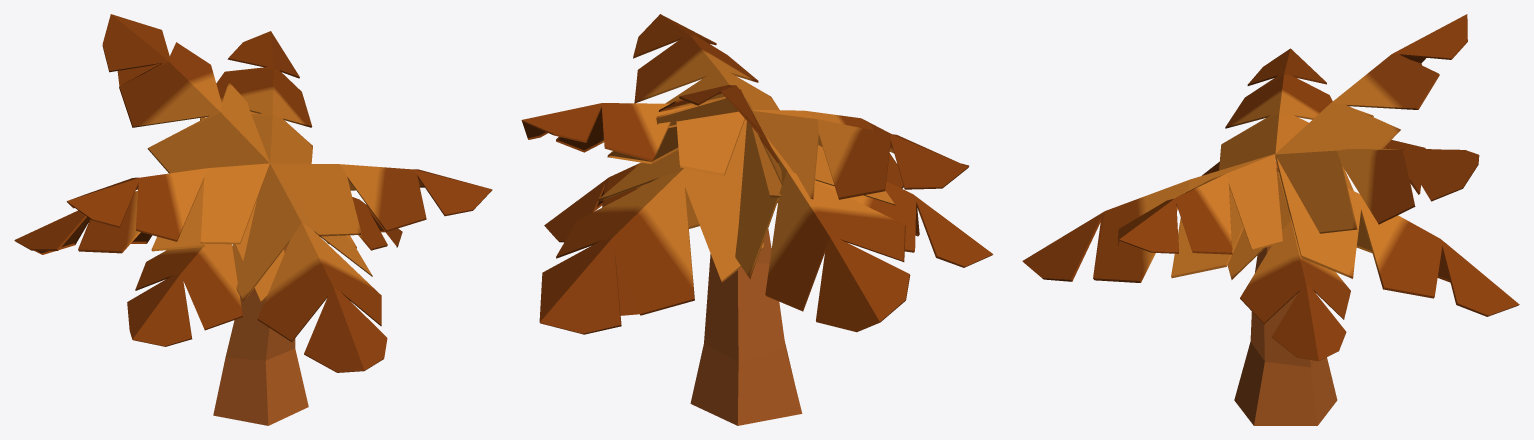
Rendered from Tree_12_Fall.fbx.
3 renders of one model, left to right at view 1: azimuth 30°, elevation 25°; view 2: azimuth 150°, elevation 25°; view 3: azimuth 270°, elevation 25°, orthographic. The views are drawn at different scales.
Parts seen in each view (by area): view 1: Tree_12_p2_Fall, Tree_12_p1_Fall; view 2: Tree_12_p2_Fall, Tree_12_p1_Fall; view 3: Tree_12_p2_Fall, Tree_12_p1_Fall.
Part boxes in pixels (bbox=[...]): Tree_12_p2_Fall: bbox=[14, 14, 492, 372]; Tree_12_p1_Fall: bbox=[213, 243, 308, 425]; Tree_12_p2_Fall: bbox=[521, 14, 993, 334]; Tree_12_p1_Fall: bbox=[690, 229, 802, 425]; Tree_12_p2_Fall: bbox=[1022, 14, 1519, 361]; Tree_12_p1_Fall: bbox=[1234, 161, 1337, 425].
Size of the model in its own units: 309 by 290 by 361.
